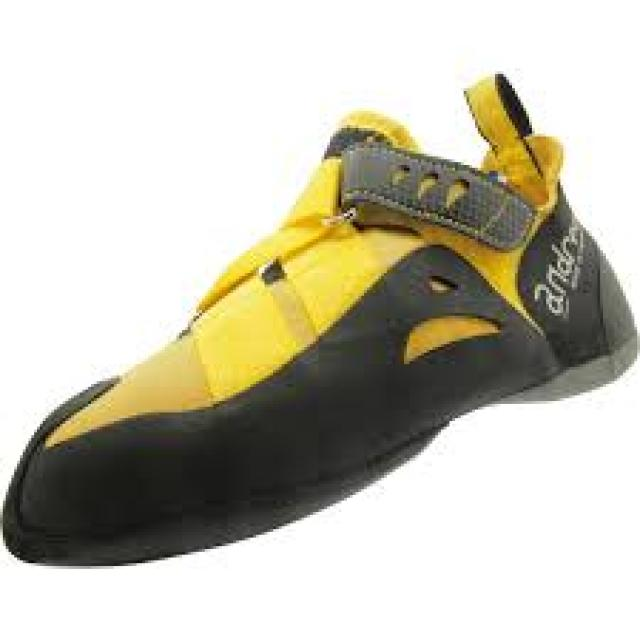climbing-shoes: (3, 71, 637, 566)
